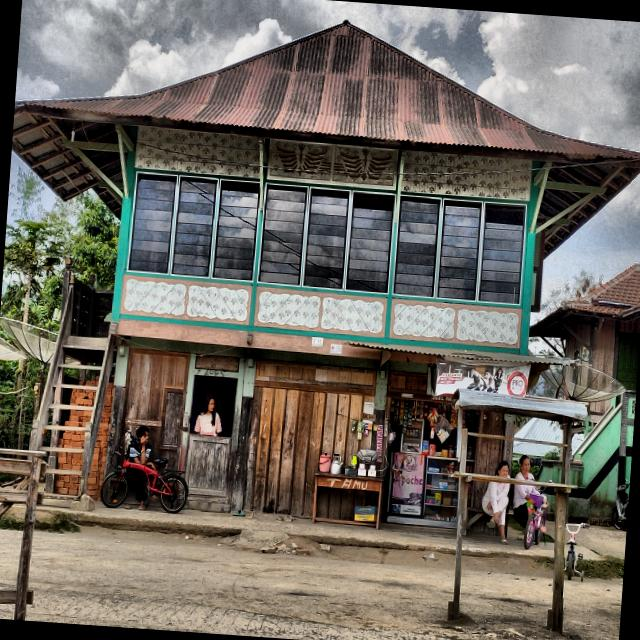ornamen: (253, 286, 386, 337), (389, 298, 522, 348), (120, 274, 252, 324)
roof: (11, 21, 640, 255), (528, 263, 640, 338)
stair: (28, 274, 116, 500)
wall: (253, 139, 398, 337), (389, 151, 532, 349), (119, 126, 259, 325), (242, 357, 377, 519), (120, 346, 191, 471)
window: (258, 187, 306, 284), (346, 193, 393, 292), (212, 181, 258, 280), (129, 175, 175, 273), (479, 204, 524, 303), (171, 178, 216, 276), (303, 190, 348, 288), (394, 199, 439, 296), (437, 202, 480, 300)
